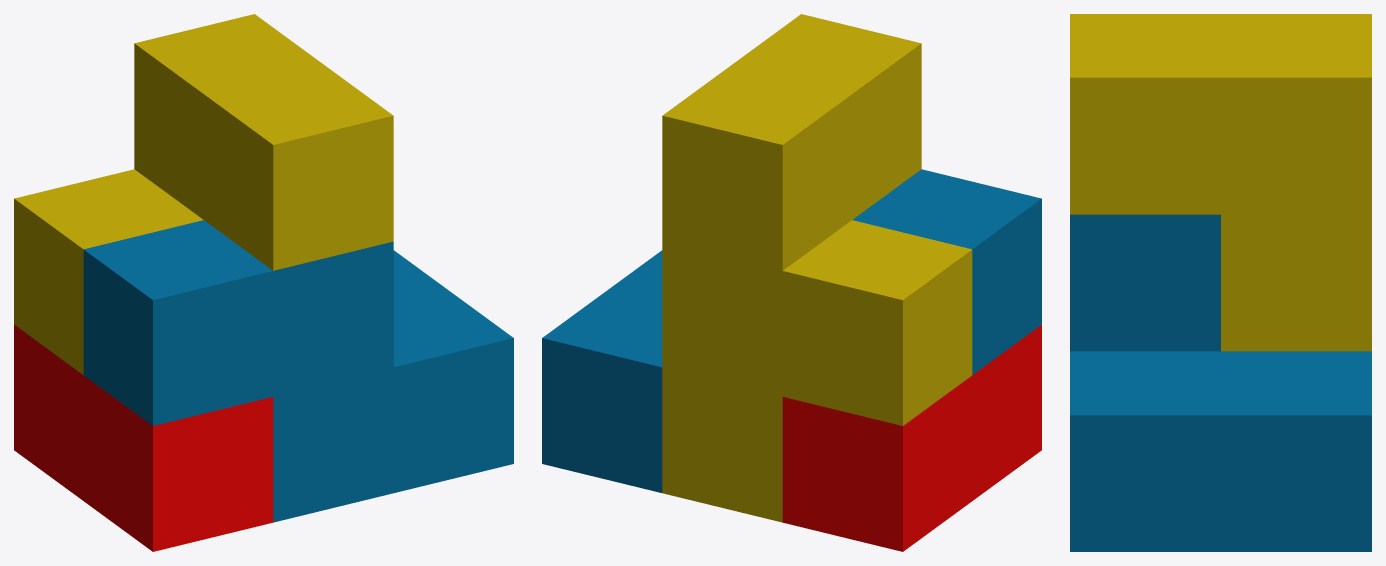
3 views of the same model, side by side, from view 1: azimuth 30°, elevation 25°; view 2: azimuth 150°, elevation 25°; view 3: azimuth 270°, elevation 25° (orthographic). The views are drawn at different scales.
Parts seen in each view (by area): view 1: mergedBlocks(Clone); view 2: mergedBlocks(Clone); view 3: mergedBlocks(Clone).
Part boxes in pixels (<box>): mergedBlocks(Clone): <box>14,14,513,551</box>; mergedBlocks(Clone): <box>542,14,1041,551</box>; mergedBlocks(Clone): <box>1070,14,1371,551</box>.
Bounding box in the file's own units: 3 × 3 × 2.
3 materials, 3 textured.
